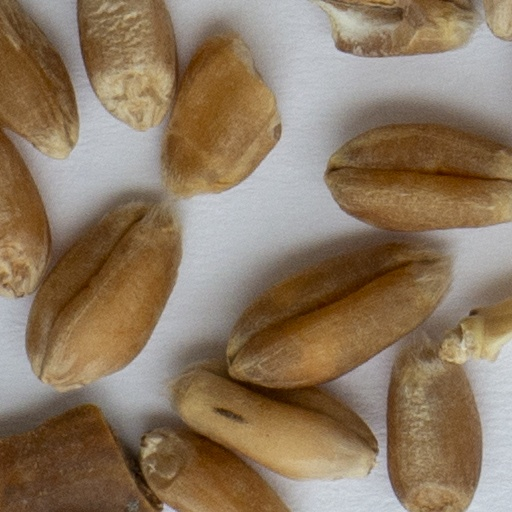Peel-poly: (0, 404, 163, 511), (433, 290, 511, 369)
Wheat-grain-damaged-poly: (158, 26, 282, 206), (292, 0, 480, 59)
